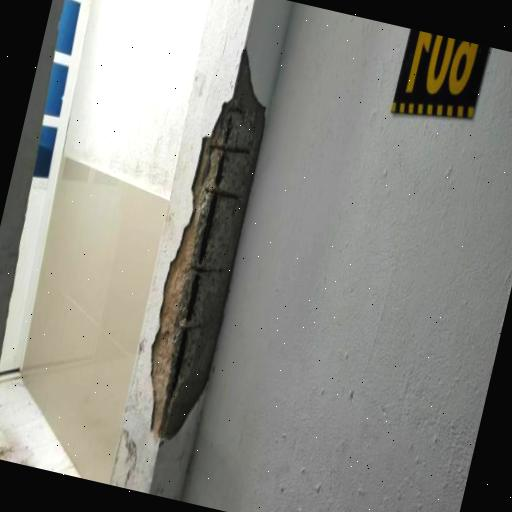spalling: (157, 63, 262, 430)
